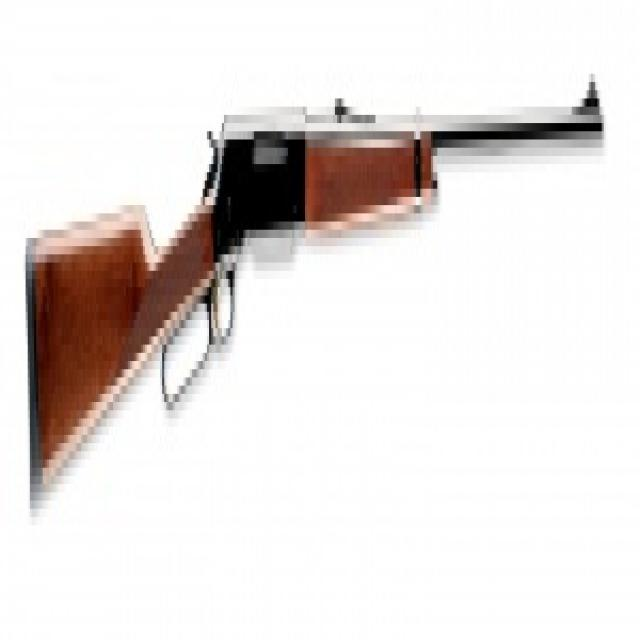weapon: (27, 79, 606, 518)
